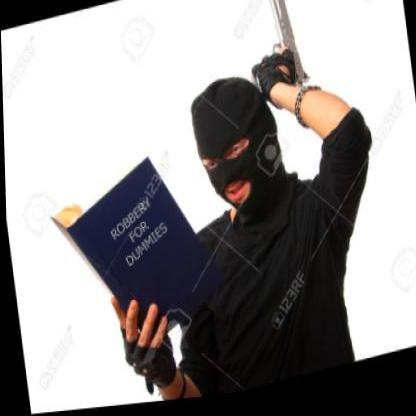pistol: (239, 0, 308, 108)
